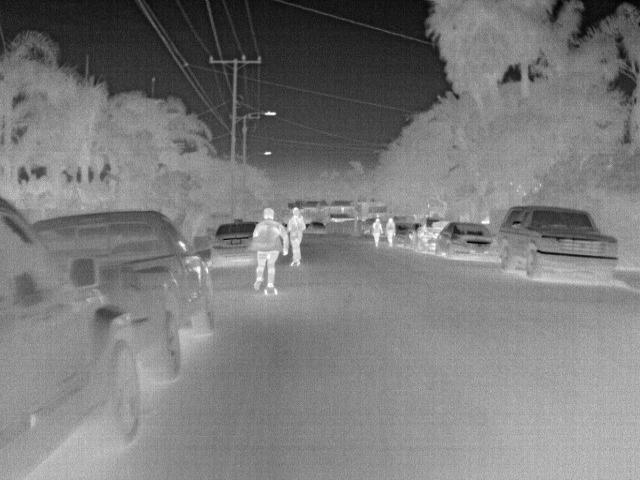car: (2, 194, 141, 479), (32, 210, 222, 382), (495, 204, 620, 284), (209, 219, 262, 269), (436, 222, 498, 259), (413, 217, 450, 255), (403, 222, 421, 248), (396, 221, 413, 247), (307, 220, 331, 236)
person: (252, 208, 289, 286), (285, 206, 307, 264), (385, 218, 399, 246), (372, 218, 386, 244)
